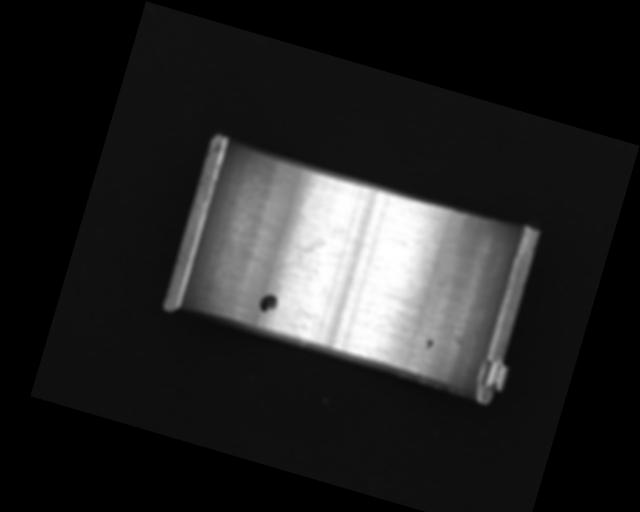blot: (274, 223, 329, 281), (257, 291, 280, 316)
bruise: (423, 336, 435, 351)
nick: (300, 176, 324, 217)
